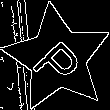P_NE: (26, 27, 89, 89)
